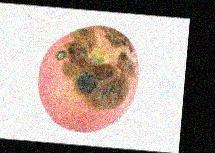rotten apple: (54, 21, 137, 108)
